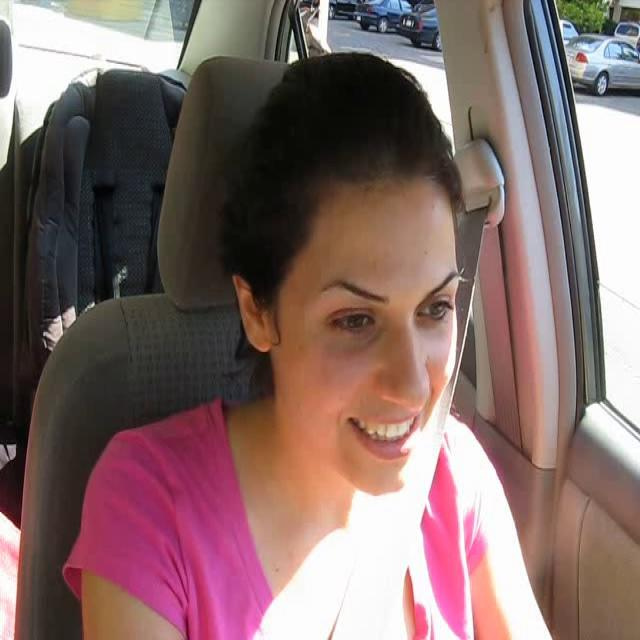close: (349, 408, 427, 462)
